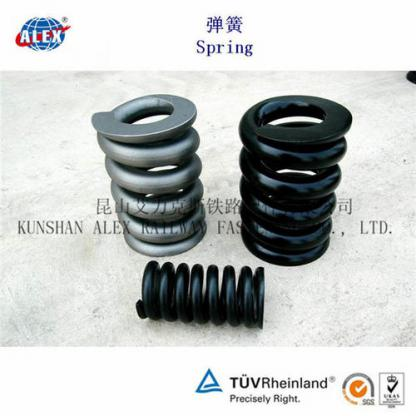FOD: (234, 87, 355, 267), (89, 91, 209, 258), (134, 260, 269, 332)
